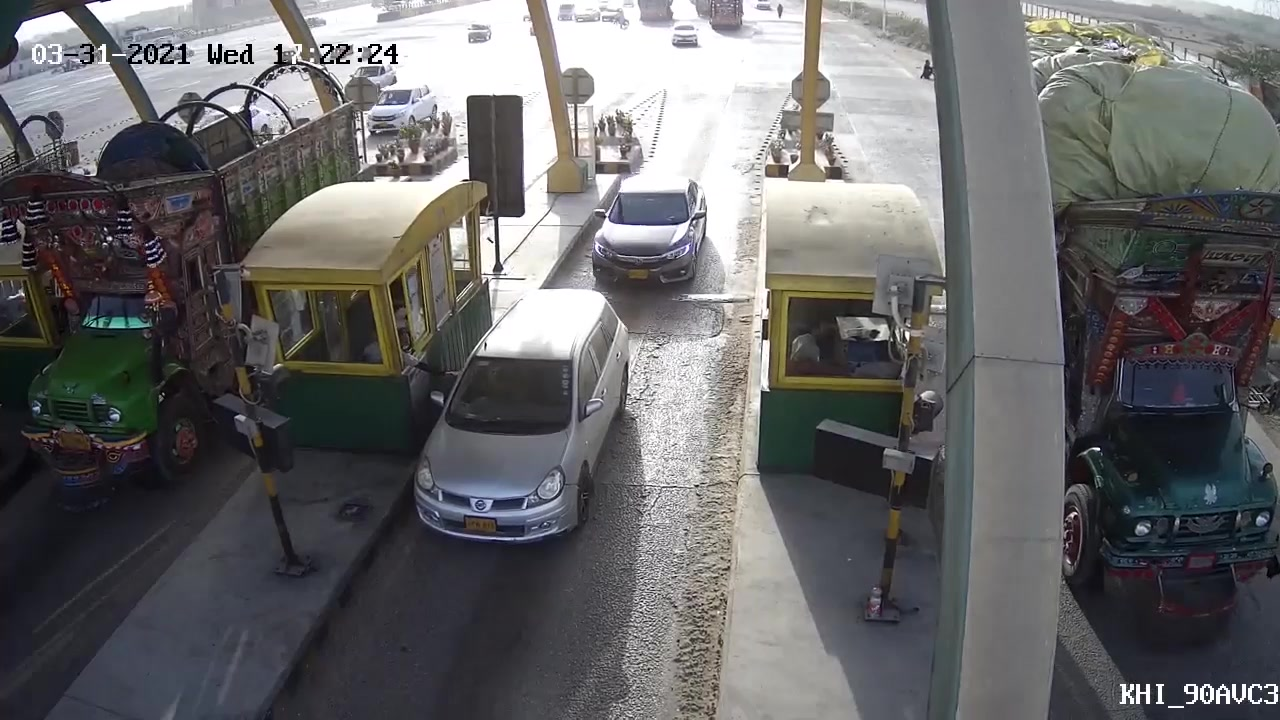F1: (395, 283, 642, 559), (584, 167, 715, 293)
